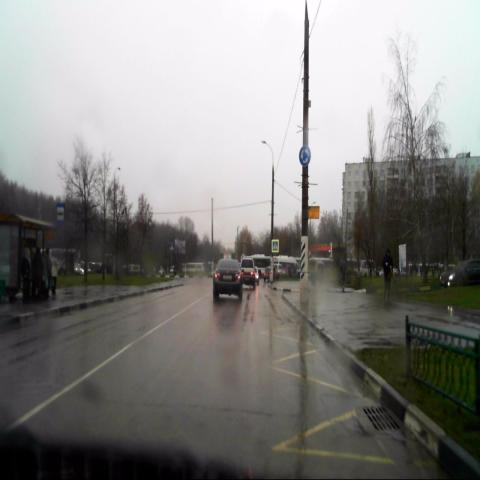4_3: (298, 146, 311, 166)
